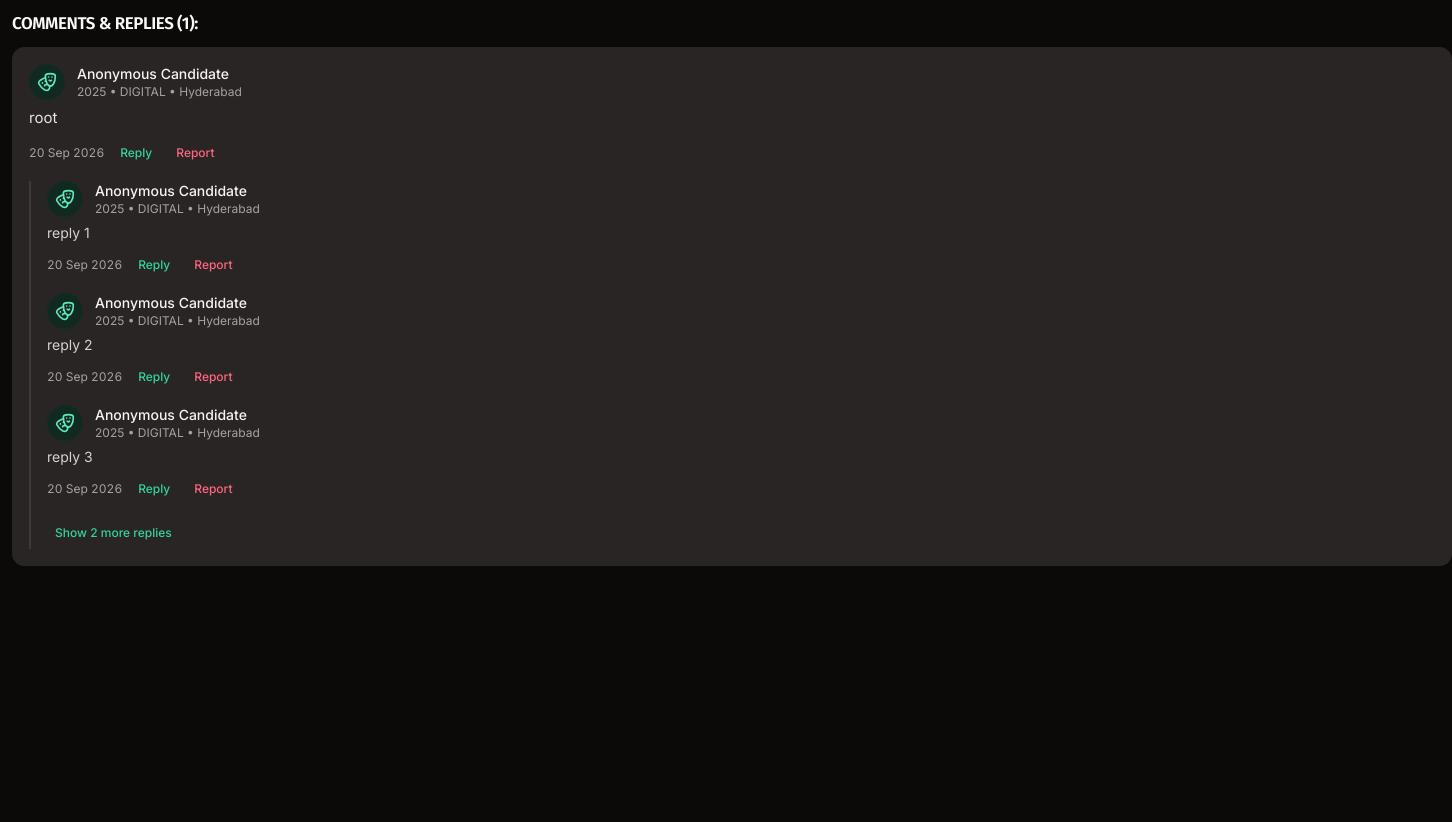
Test: CommentThread › collapses breadth past the constant with a true count (D-10)
This screenshot has width=1452, height=822.
Expected: the text "reply 1" is shown, left=47, top=224, right=90, bottom=241
Expected: the text "reply 4" is not shown
Click the button with test id "breadth-toggle".
click(113, 533)  # box left=47, top=517, right=180, bottom=549
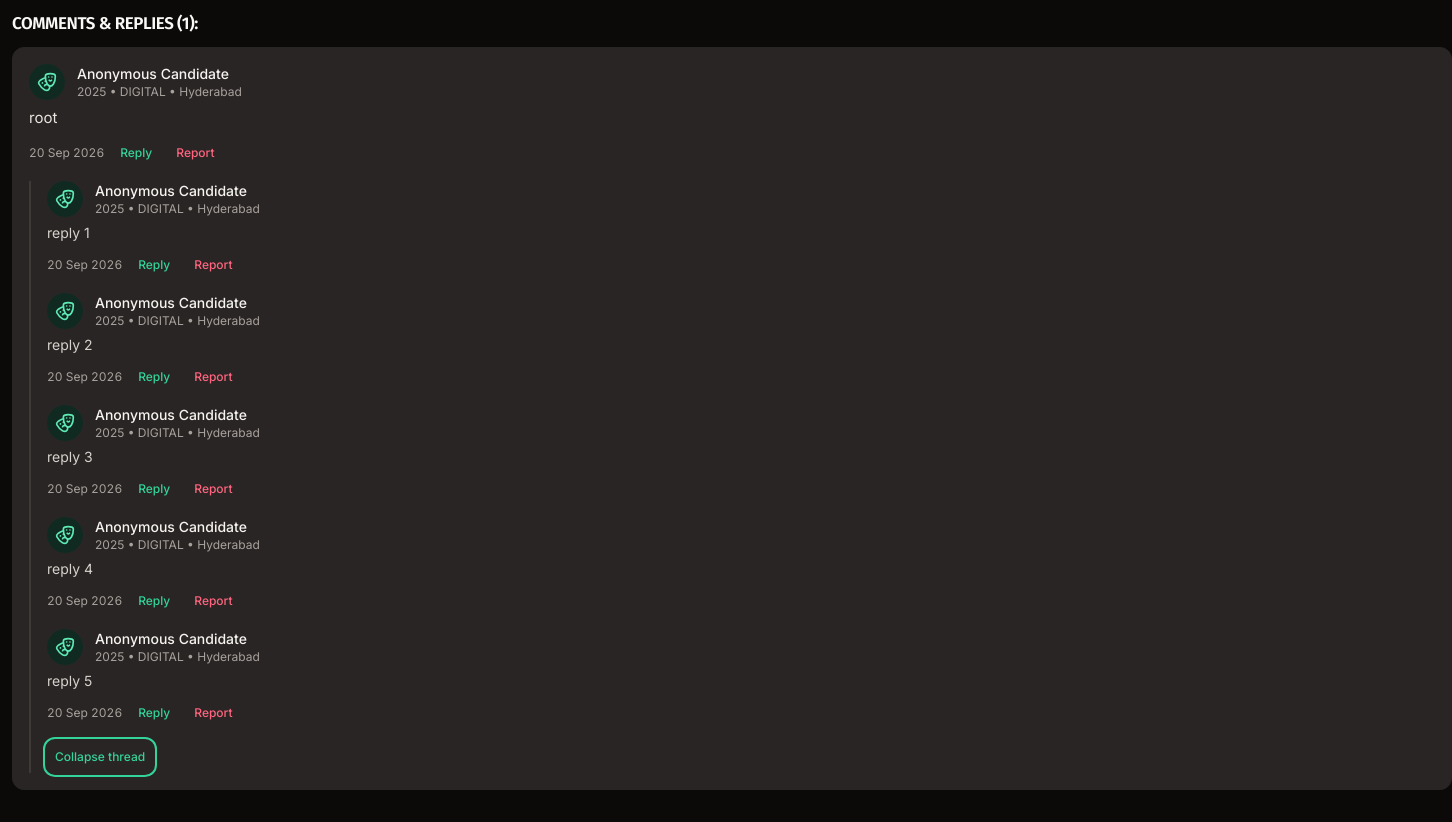
Expected: the text "reply 4" is shown, left=47, top=560, right=93, bottom=577
Expected: the text "reply 5" is shown, left=47, top=672, right=92, bottom=689
Expected: the button with test id "breadth-toggle" is expanded, left=47, top=741, right=153, bottom=773
